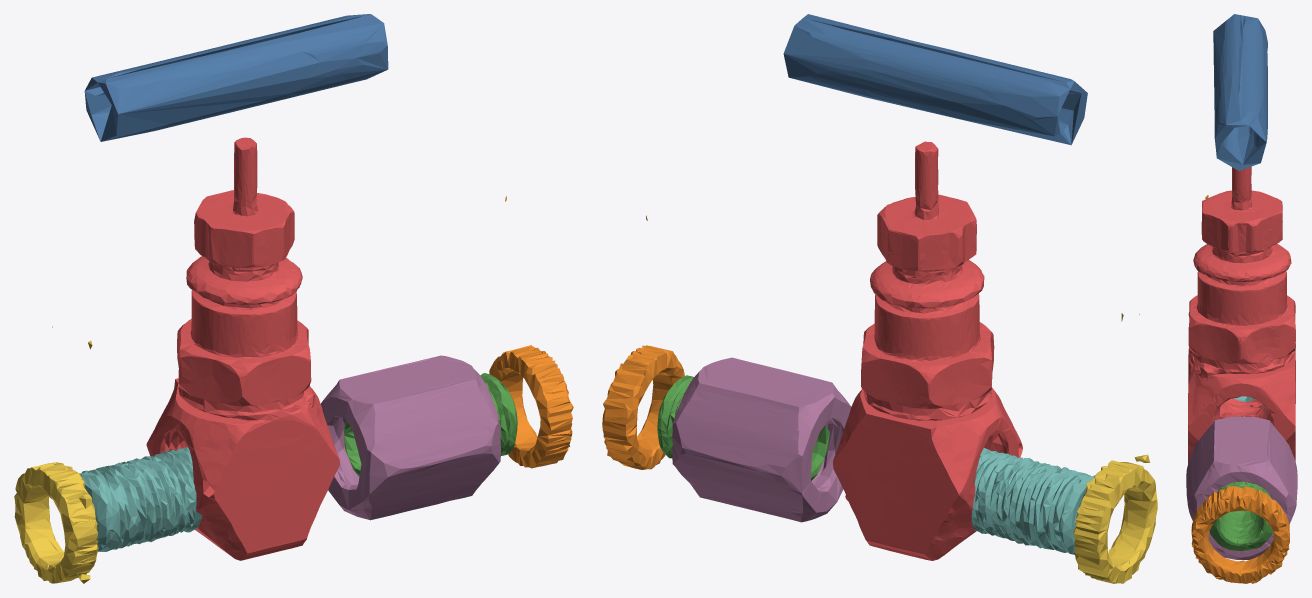
The model's file is valve_ours_exploded.glb.
3 renders of one model, left to right at view 1: azimuth 30°, elevation 25°; view 2: azimuth 150°, elevation 25°; view 3: azimuth 270°, elevation 25°, orthographic. The views are drawn at different scales.
Parts seen in each view (by area): view 1: part_02, part_06, part_00, part_03, part_05, part_01, part_04; view 2: part_02, part_06, part_00, part_03, part_05, part_01, part_04; view 3: part_02, part_06, part_00, part_01, part_04.
Boxes of the visible parts, x1,y1,x2,y2 form: part_02: (146,137,339,560); part_06: (321,355,500,520); part_00: (84,14,388,141); part_03: (79,447,201,551); part_05: (14,326,98,583); part_01: (489,196,573,468); part_04: (344,373,517,476); part_02: (833,141,1022,560); part_06: (672,357,851,522); part_00: (783,14,1087,145); part_03: (971,448,1094,554); part_05: (1073,313,1157,583); part_01: (602,215,684,469); part_04: (657,375,829,481); part_02: (1188,166,1295,463); part_06: (1186,416,1297,560); part_00: (1213,14,1267,170); part_01: (1191,364,1289,583); part_04: (1209,481,1272,550).
Size of the model in its own units: 1.3 by 1.21 by 0.3043.
